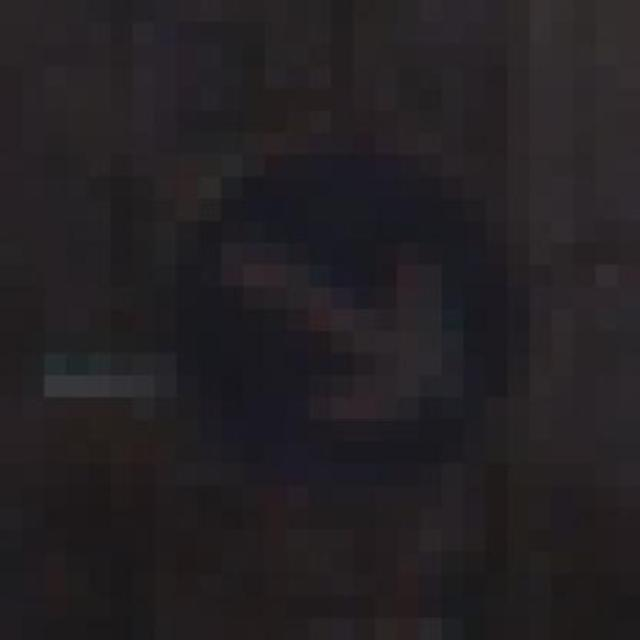Keep-Right: (110, 132, 530, 508)
